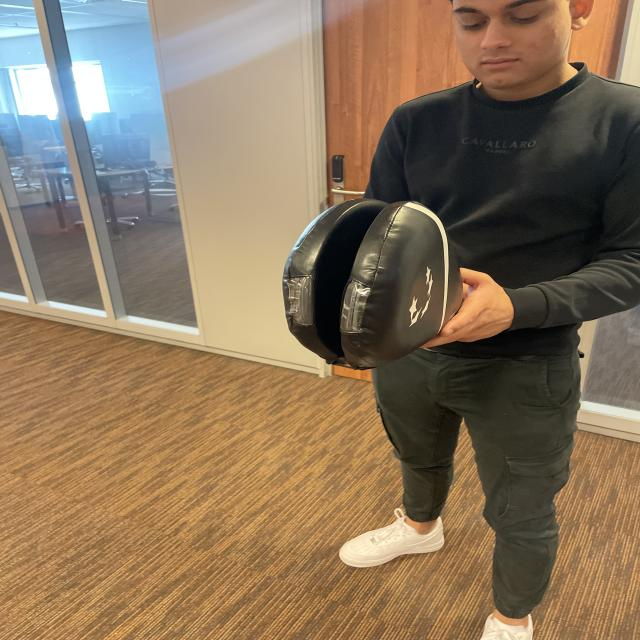paddle: (284, 197, 462, 367)
